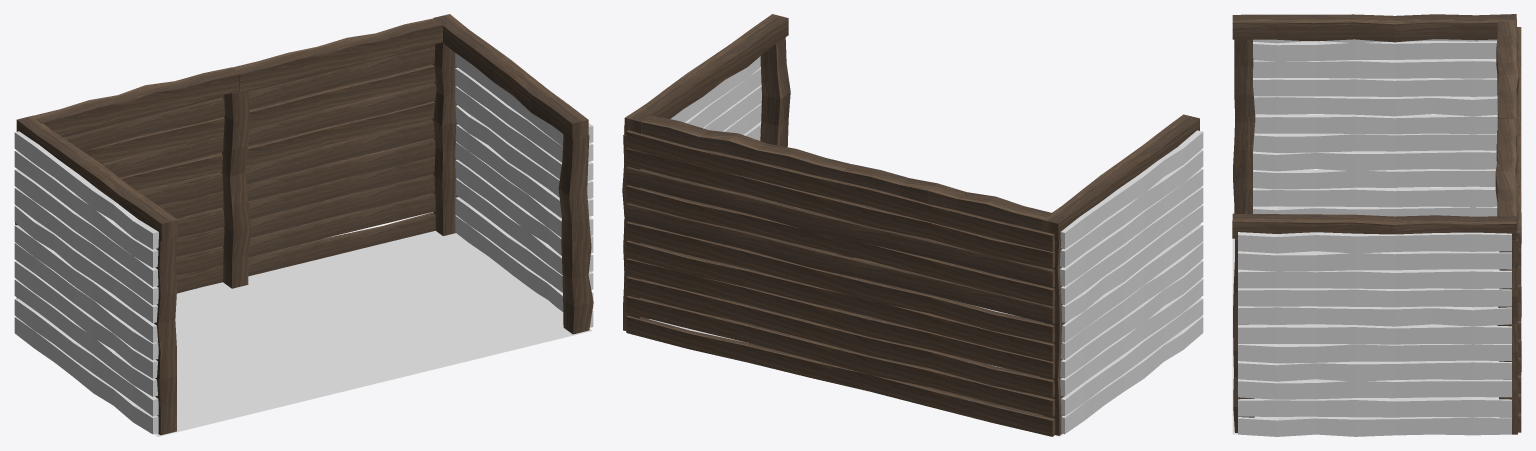
Rendered from savannah_hut.glb.
3 renders of one model, left to right at view 1: azimuth 30°, elevation 25°; view 2: azimuth 150°, elevation 25°; view 3: azimuth 270°, elevation 25°, orthographic.
Visible parts, largest first — view 1: Cube.053; view 2: Cube.053; view 3: Cube.053.
Part boxes in pixels (left/top/right/bottom): Cube.053: left=14, top=14, right=593, bottom=436; Cube.053: left=622, top=14, right=1203, bottom=436; Cube.053: left=1232, top=14, right=1521, bottom=436.
Bounding box in the file's own units: 7.09 × 3.31 × 4.06.
Materials: 1 (1 with a texture image).
